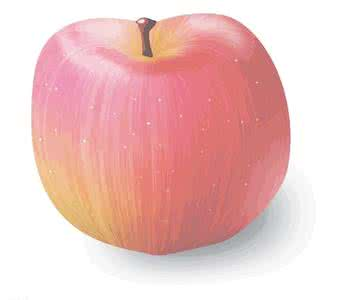apple: (36, 8, 294, 253)
